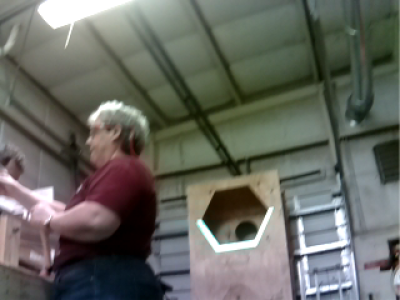target: (195, 205, 274, 254)
